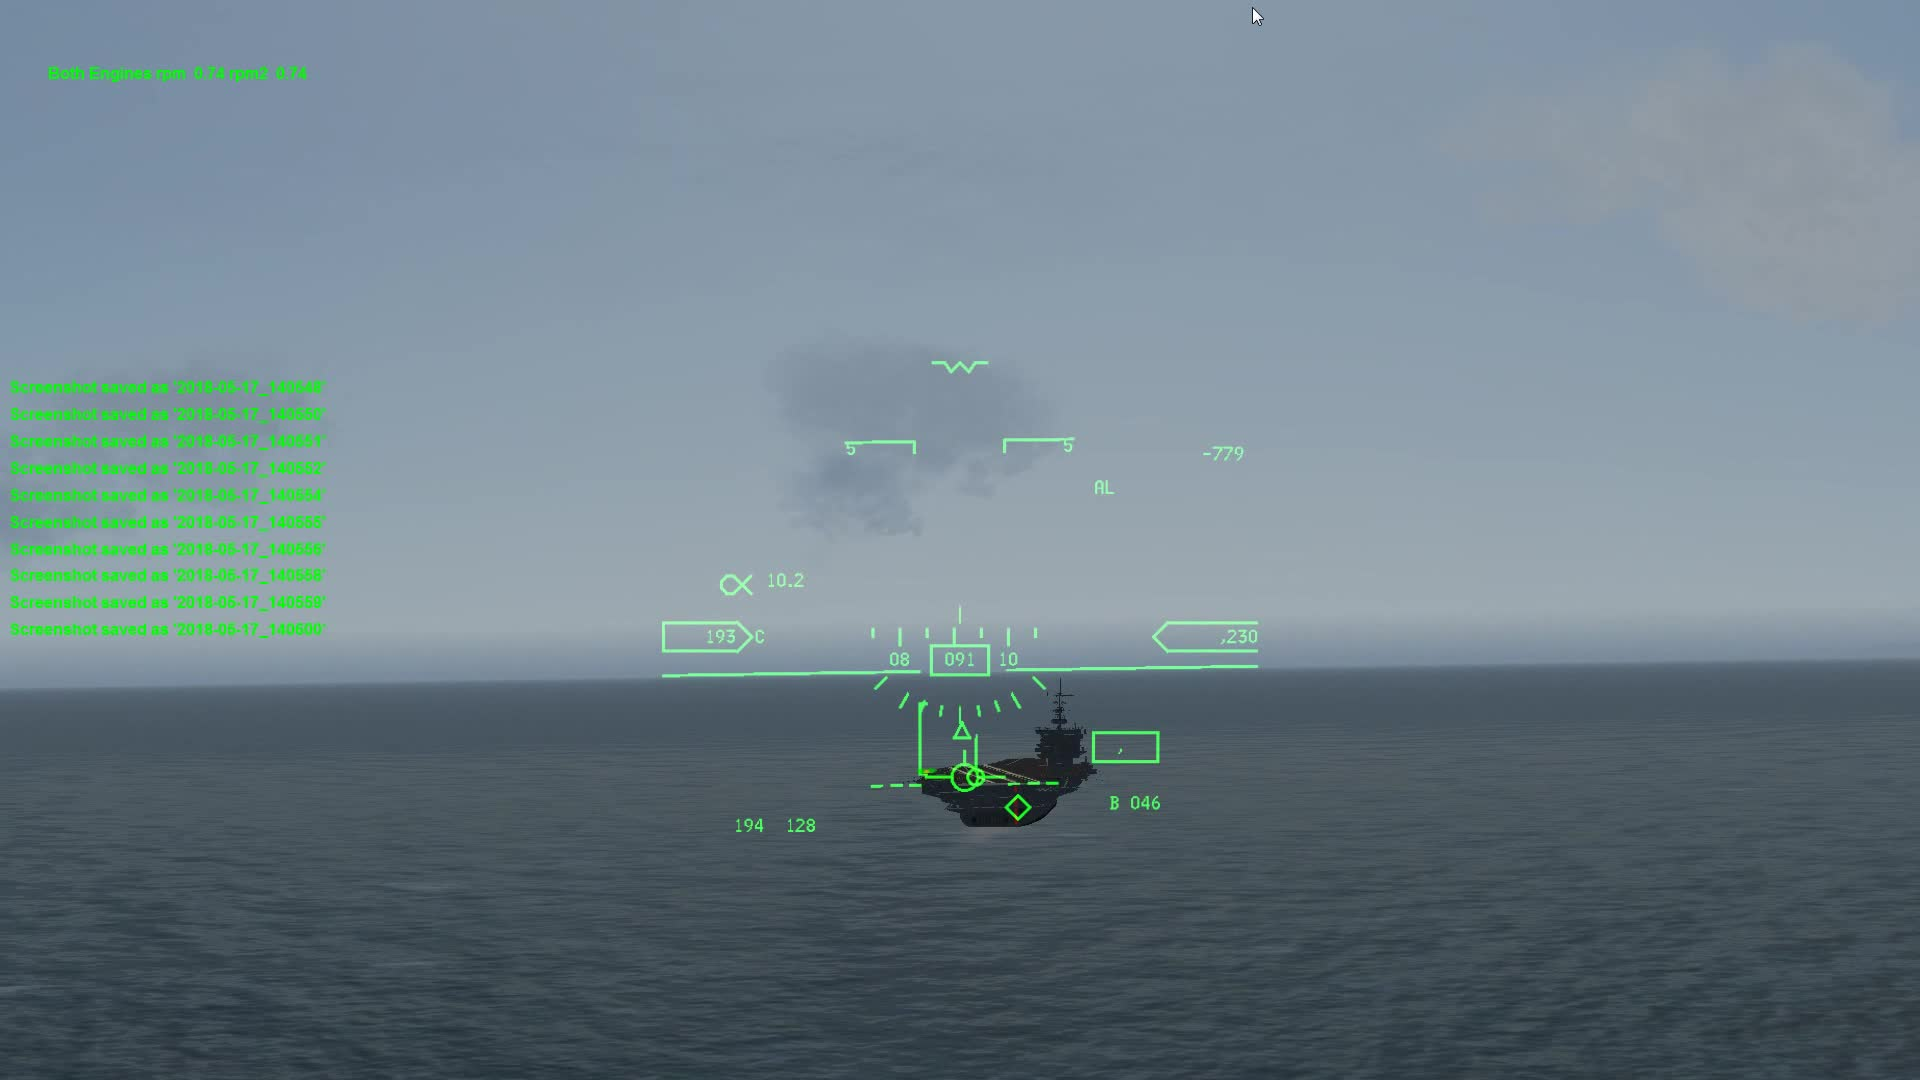speed vector: (923, 752, 1005, 794)
